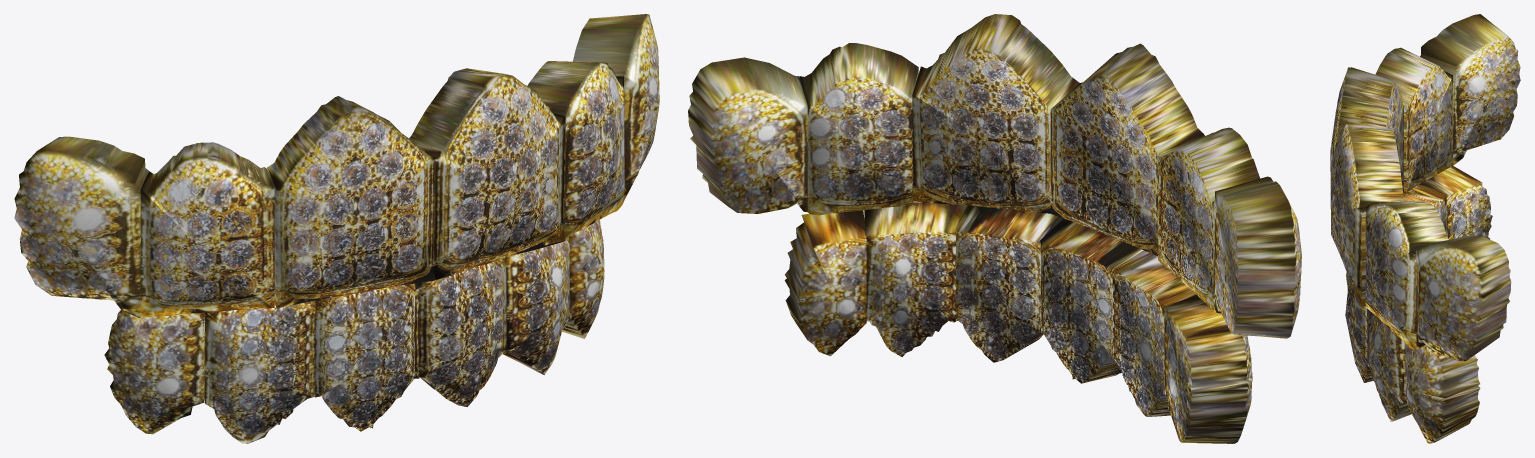
The model's file is grillz_photo.glb.
The picture shows the model from 3 angles, left to right: view 1: azimuth 30°, elevation 25°; view 2: azimuth 150°, elevation 25°; view 3: azimuth 270°, elevation 25°; orthographic projection. The views are drawn at different scales.
Parts seen in each view (by area): view 1: Grillz; view 2: Grillz; view 3: Grillz.
Part boxes in pixels (left/top/right/bottom): Grillz: left=14, top=14, right=659, bottom=443; Grillz: left=688, top=14, right=1301, bottom=443; Grillz: left=1330, top=14, right=1520, bottom=443.
Bounding box in the file's own units: 1.9 × 0.9812 × 0.624.
Materials: 1 (1 with a texture image).
